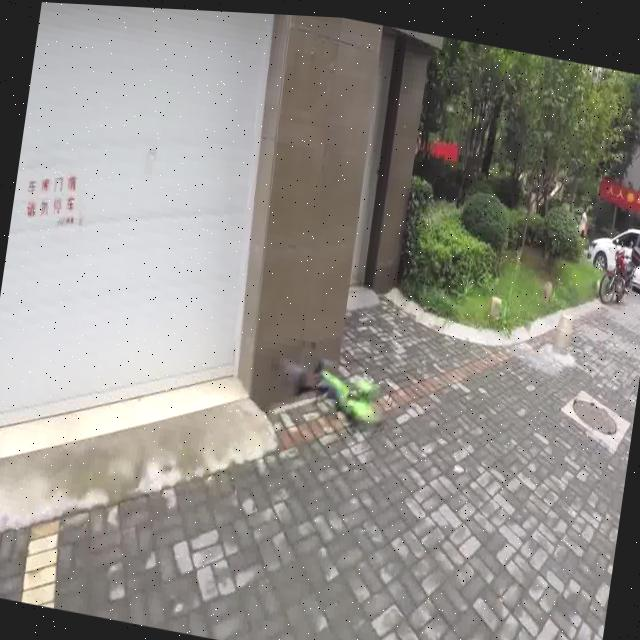drone: (0, 463, 610, 640)
